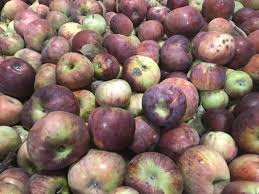damaged_apple: (27, 115, 87, 175), (84, 109, 144, 155), (26, 88, 86, 129), (179, 146, 230, 187), (126, 152, 179, 190), (143, 83, 187, 127), (56, 49, 99, 91), (122, 54, 168, 90), (193, 28, 237, 62), (1, 55, 32, 96), (163, 33, 196, 69), (23, 18, 57, 49), (43, 37, 76, 66)
